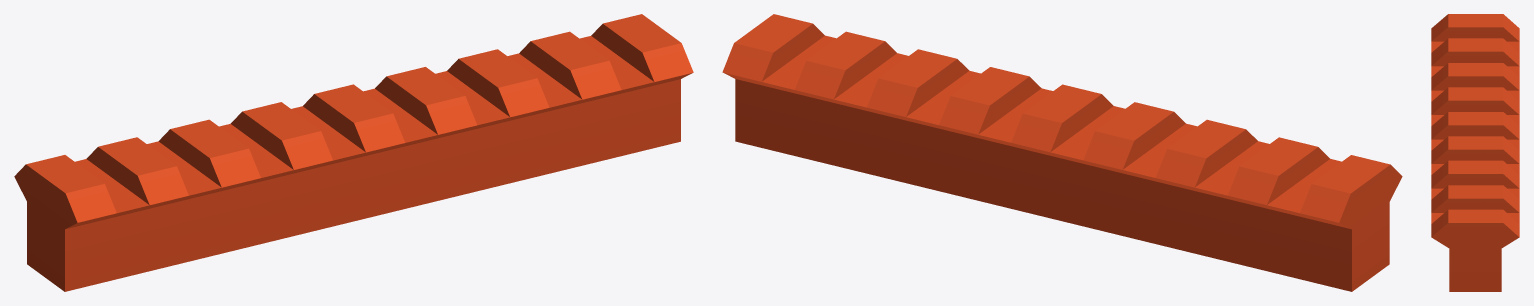
The model's file is Bar_03.fbx.
3 views of the same model, side by side, from view 1: azimuth 30°, elevation 25°; view 2: azimuth 150°, elevation 25°; view 3: azimuth 270°, elevation 25° (orthographic). The views are drawn at different scales.
Parts seen in each view (by area): view 1: Bar_03; view 2: Bar_03; view 3: Bar_03.
Boxes of the visible parts, box(x1,y1,x2,y2) form: Bar_03: box(14, 14, 693, 291); Bar_03: box(722, 14, 1402, 291); Bar_03: box(1431, 14, 1519, 291).
Bounding box in the file's own units: 14.59 × 2.24 × 2.6.
